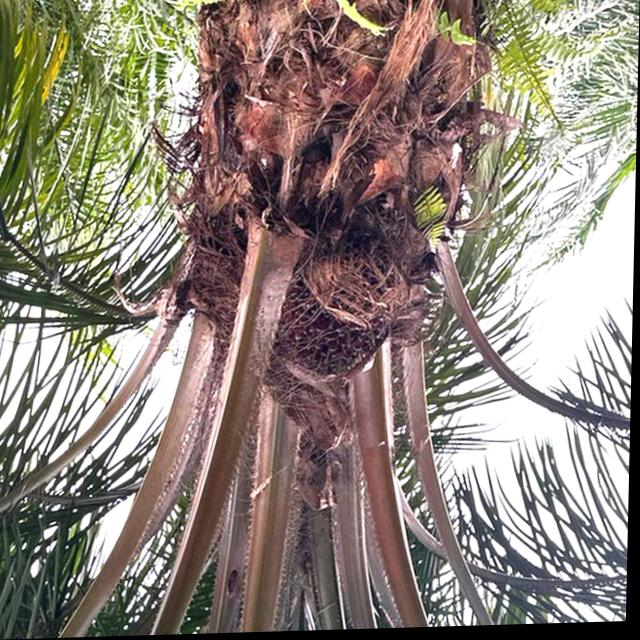ripe: (270, 256, 401, 397)
